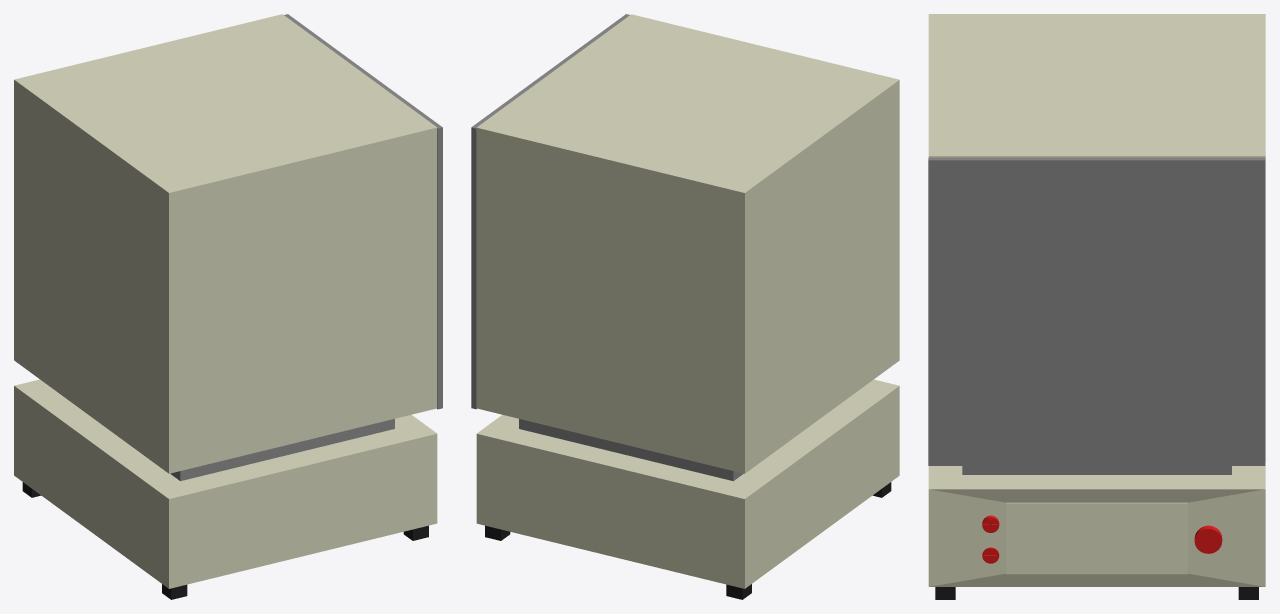
File: Forno v4.fbx
3 renders of one model, left to right at view 1: azimuth 30°, elevation 25°; view 2: azimuth 150°, elevation 25°; view 3: azimuth 270°, elevation 25°, orthographic. The views are drawn at different scales.
Visible parts, largest first — view 1: Forno, Blocco base, Porta, Blocco in mezzo; view 2: Forno, Blocco base, Porta, Blocco in mezzo; view 3: Porta, Forno, Blocco base, Schermo, Blocco in mezzo, Tasto partenza.
Part boxes in pixels (box(x1,y1,x2,y2)): Forno: box(14, 14, 437, 473); Blocco base: box(14, 379, 437, 588); Porta: box(284, 14, 442, 409); Blocco in mezzo: box(170, 419, 394, 480); Forno: box(476, 14, 899, 473); Blocco base: box(476, 379, 899, 588); Porta: box(471, 14, 629, 409); Blocco in mezzo: box(519, 419, 743, 481); Porta: box(928, 158, 1265, 465); Forno: box(928, 14, 1265, 461); Blocco base: box(928, 462, 1265, 586); Schermo: box(1006, 502, 1187, 574); Blocco in mezzo: box(962, 466, 1231, 474); Tasto partenza: box(1194, 525, 1222, 553).
Size of the model in its own units: 56.3 by 80.69 by 55.23.
